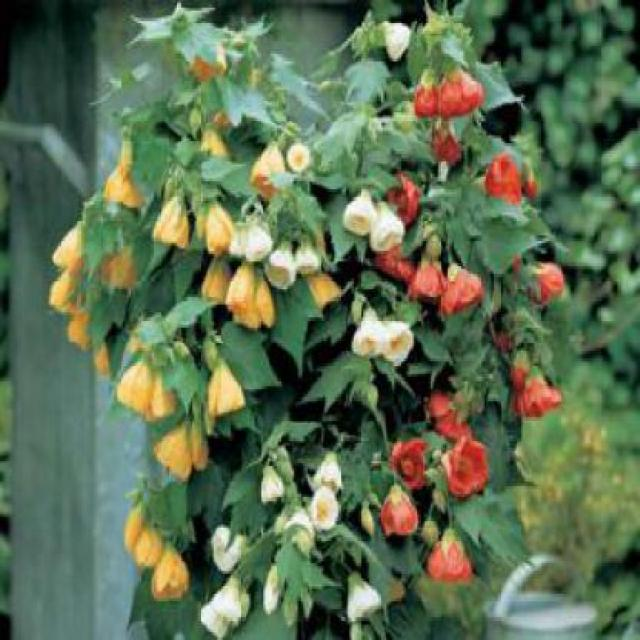Flower: (118, 351, 158, 420), (150, 417, 195, 478), (448, 437, 490, 497), (206, 353, 246, 415), (435, 261, 482, 313), (403, 248, 446, 304), (104, 146, 142, 208), (515, 365, 559, 418), (152, 189, 190, 249), (425, 533, 471, 582), (52, 215, 89, 274), (149, 542, 189, 596), (440, 66, 480, 119), (388, 440, 427, 494), (250, 141, 287, 197), (486, 153, 522, 210), (381, 482, 419, 536), (146, 358, 179, 420), (345, 570, 381, 622), (411, 68, 446, 121), (368, 201, 403, 254), (342, 187, 379, 236), (209, 525, 246, 573), (354, 302, 385, 359), (376, 318, 413, 365), (129, 514, 162, 566), (200, 255, 232, 308), (202, 203, 231, 260), (225, 261, 256, 313), (266, 240, 297, 292), (48, 264, 81, 310), (534, 255, 561, 308), (239, 220, 273, 262), (312, 448, 343, 494), (382, 18, 413, 62), (308, 489, 339, 533), (213, 573, 242, 619), (257, 459, 285, 505), (431, 120, 458, 166), (66, 303, 92, 349), (293, 238, 322, 274), (285, 138, 309, 172), (227, 215, 245, 259)
